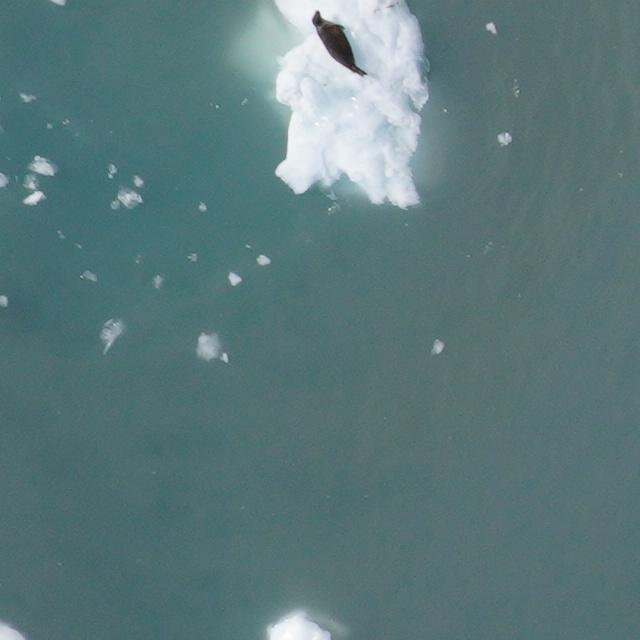seal: (308, 3, 370, 88)
